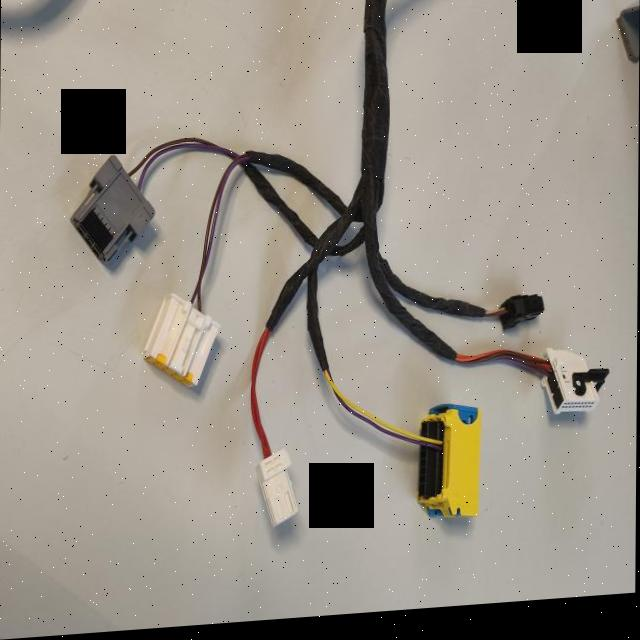cable: (129, 0, 609, 420)
connector: (71, 157, 155, 270), (418, 411, 481, 525), (144, 297, 218, 389), (542, 357, 610, 422), (259, 455, 298, 529), (500, 303, 544, 337)
